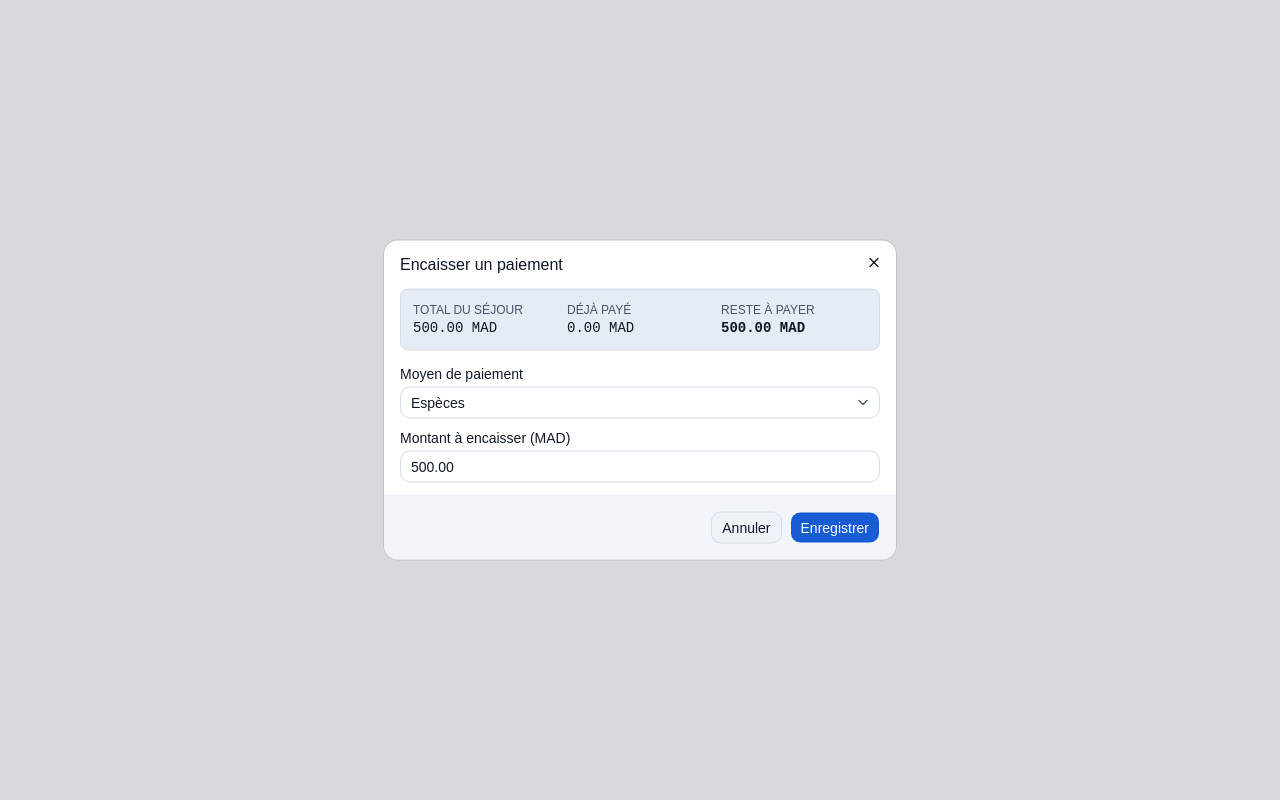
Test: RecordPaymentDialog — garde surpaiement (PAY-001B) › affiche un message propre sur une erreur PAYMENT_NOT_REQUIRED renvoyée par le serveur
Check: the number field labelled "Montant à encaisser (MAD)" holds "500.00", box [400,450,880,482]
What coordinates should you click on to do the following:
click the button "Enregistrer"
I would click on:
 (835, 528)
Its box is [790,512,880,544].
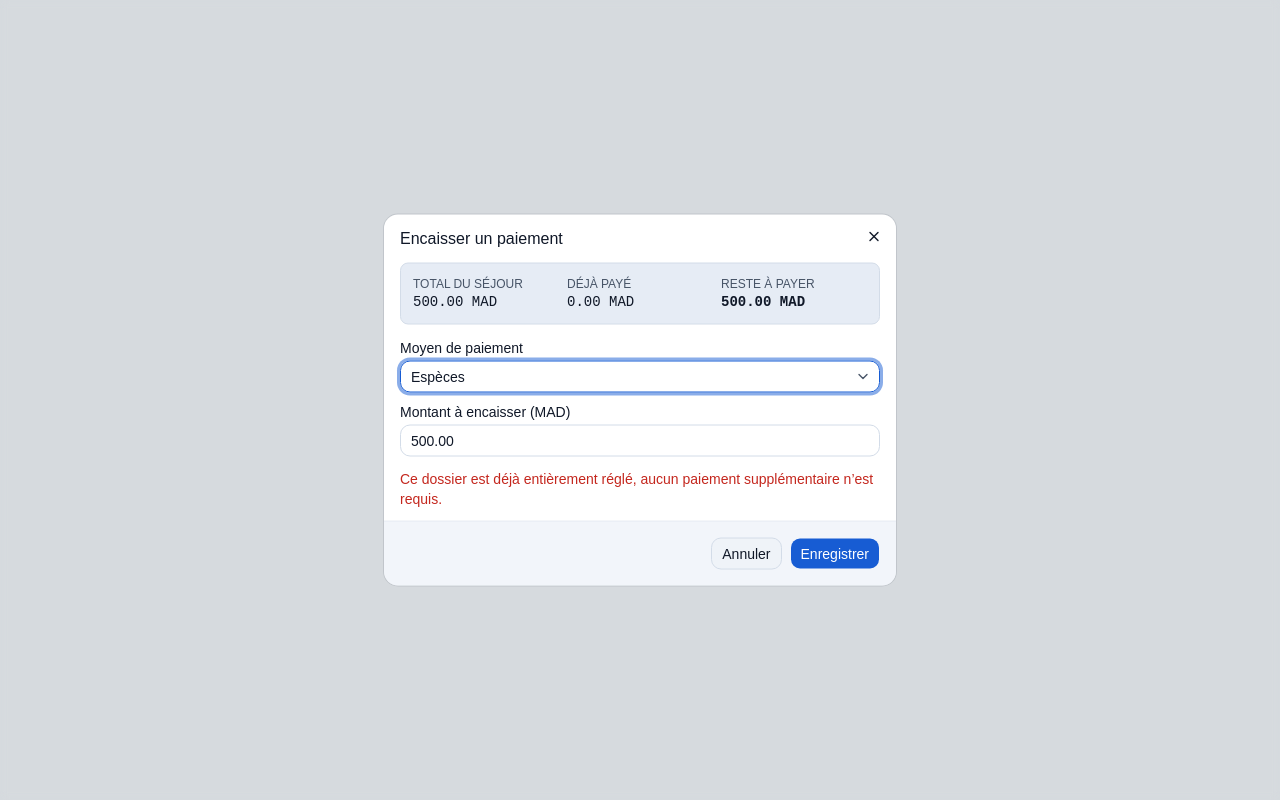
Check: the text "Ce dossier est déjà entièrement réglé, aucun paiement supplémentaire n’est requis." is shown, box [400,470,873,506]
